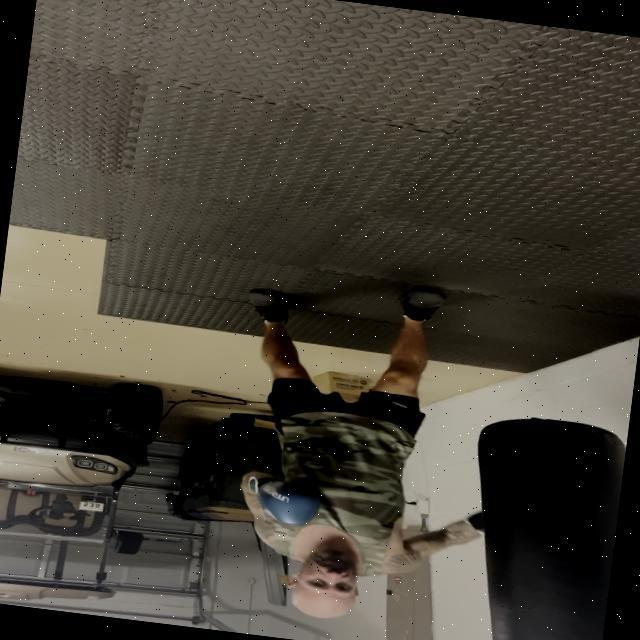bag: (482, 394, 632, 640)
hook: (224, 458, 525, 640)
